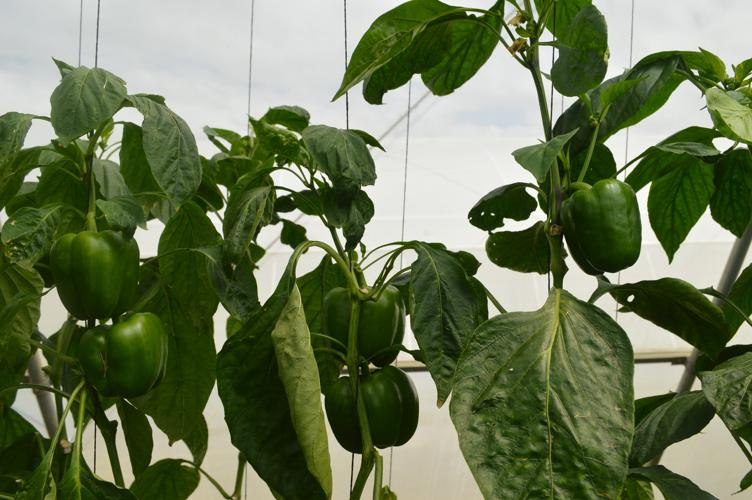BellPepper: (313, 367, 417, 454), (556, 179, 643, 275), (48, 230, 138, 322), (76, 314, 168, 404), (327, 286, 409, 368)
